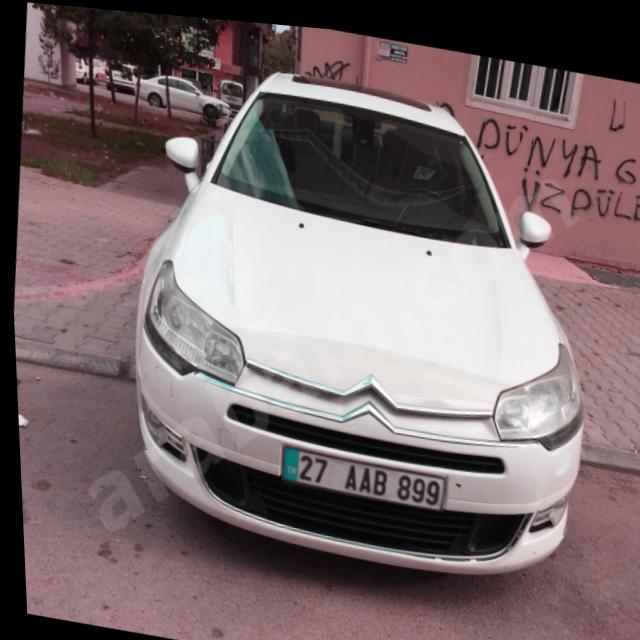license_plate: (275, 439, 443, 504)
